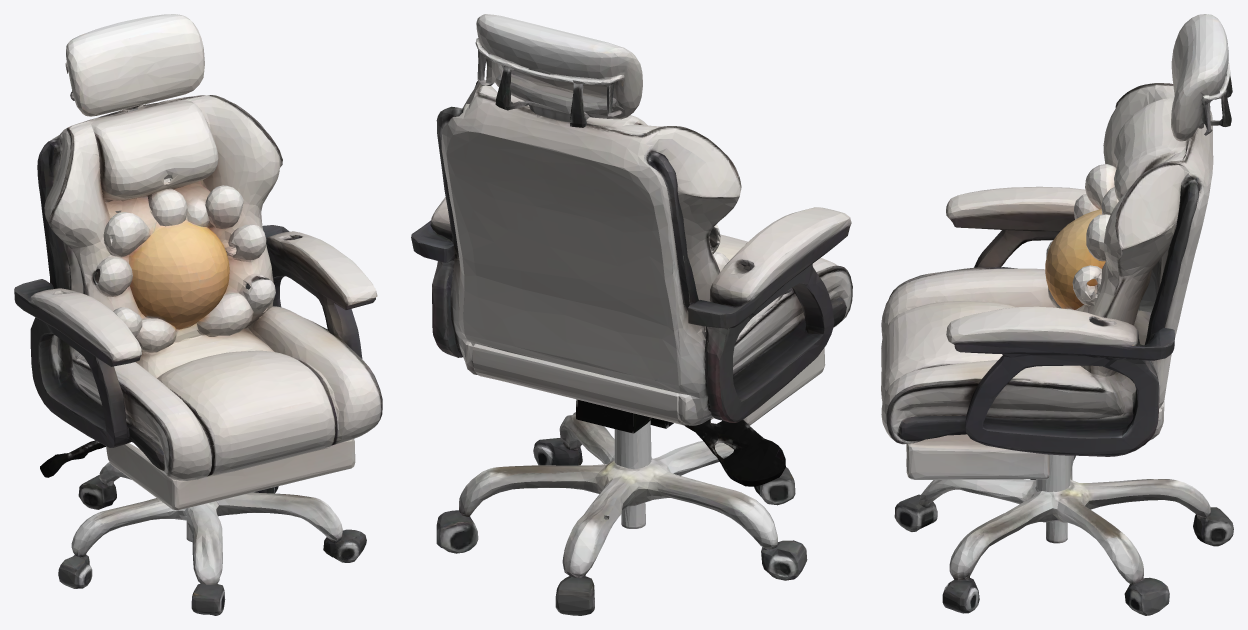
Rendered from ast_3d31fe60ee00.glb.
3 renders of one model, left to right at view 1: azimuth 30°, elevation 25°; view 2: azimuth 150°, elevation 25°; view 3: azimuth 270°, elevation 25°, orthographic. The views are drawn at different scales.
Visible parts, largest first — view 1: geometry_0; view 2: geometry_0; view 3: geometry_0.
Boxes of the visible parts, x1,y1,x2,y2 form: geometry_0: (14,14,382,615); geometry_0: (411,14,852,615); geometry_0: (881,14,1233,615).
Bounding box in the file's own units: 0.6061 × 1 × 0.6211.
Materials: 1 (1 with a texture image).
